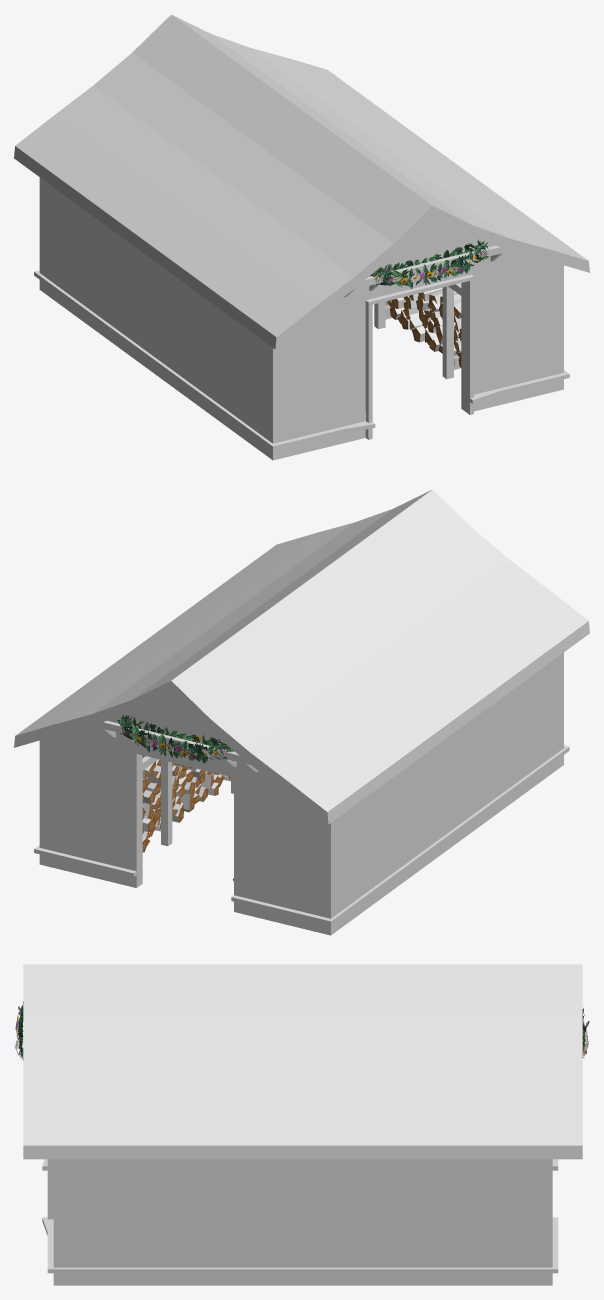
The model's file is Woodshed.fbx.
3 renders of one model, top to bottom at view 1: azimuth 30°, elevation 25°; view 2: azimuth 150°, elevation 25°; view 3: azimuth 270°, elevation 25°, orthographic. The views are drawn at different scales.
Visible parts, largest first — view 1: Cube.178, Logs.004, Plane.244, Cube.179; view 2: Cube.178, Plane.245, Logs.005, Cube.179, Logs.007; view 3: Cube.178.
Boxes of the visible parts, bbox=[...] form: Cube.178: bbox=[14, 14, 589, 460]; Logs.004: bbox=[391, 287, 461, 369]; Plane.244: bbox=[369, 239, 488, 289]; Cube.179: bbox=[374, 283, 461, 379]; Cube.178: bbox=[14, 489, 589, 935]; Plane.245: bbox=[117, 715, 233, 763]; Logs.005: bbox=[146, 765, 221, 836]; Cube.179: bbox=[142, 756, 233, 846]; Logs.007: bbox=[142, 790, 155, 852]; Cube.178: bbox=[23, 964, 582, 1285].
Size of the model in its own units: 615 by 430 by 912.
